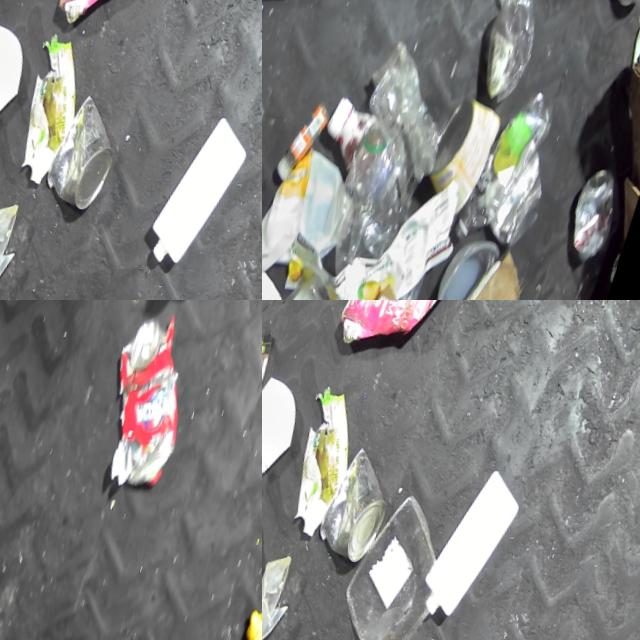can: (86, 300, 217, 491), (419, 85, 512, 221), (557, 137, 639, 279), (45, 85, 135, 210), (318, 440, 407, 563)
milk_jug: (303, 110, 475, 300), (418, 455, 534, 628), (147, 101, 262, 275), (262, 132, 369, 297)
plastic_bottle: (345, 34, 466, 187)
